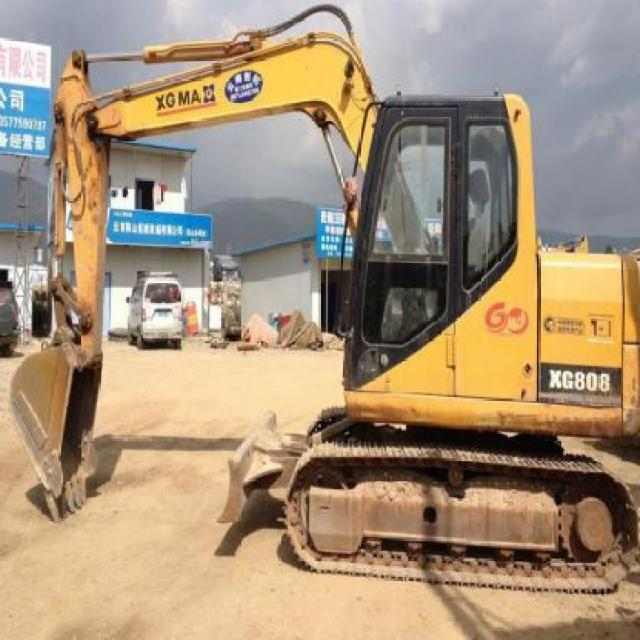Excavator: (8, 0, 639, 592)
